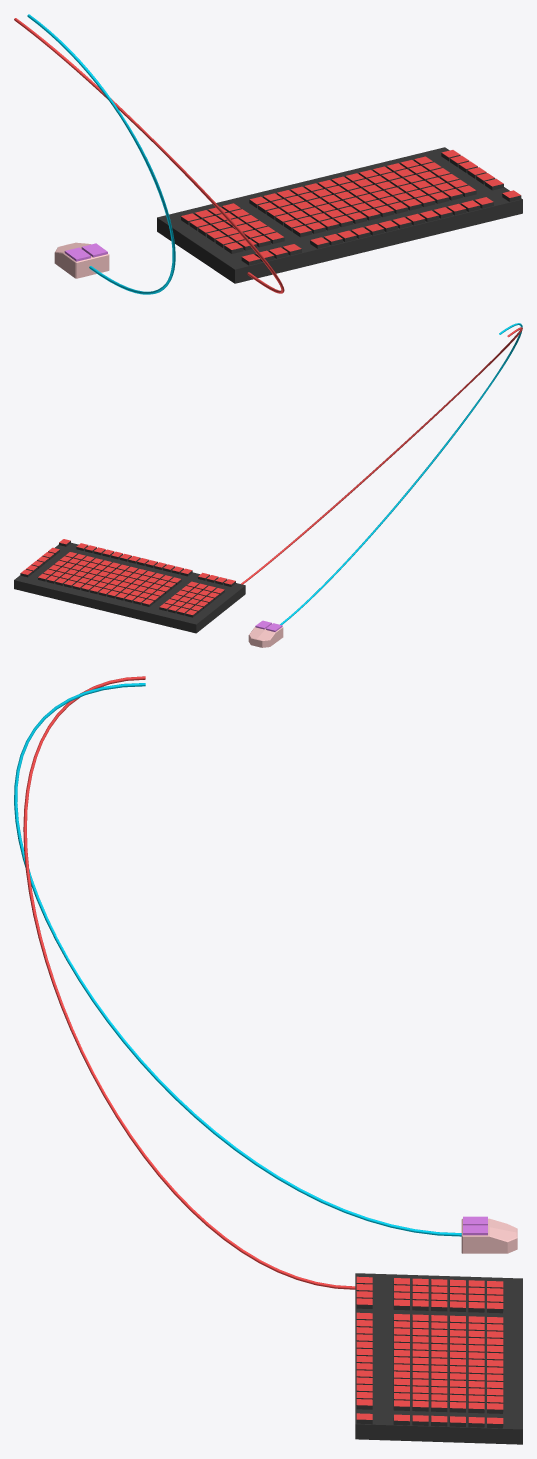
The model's file is Keyboard.fbx.
The picture shows the model from 3 angles, top to bottom: view 1: azimuth 30°, elevation 25°; view 2: azimuth 150°, elevation 25°; view 3: azimuth 270°, elevation 25°; orthographic projection. The views are drawn at different scales.
Visible parts, largest first — view 1: Keyboard_Mouse; view 2: Keyboard_Mouse; view 3: Keyboard_Mouse.
Part boxes in pixels (left/top/right/bottom): Keyboard_Mouse: left=14, top=14, right=522, bottom=294; Keyboard_Mouse: left=14, top=323, right=522, bottom=647; Keyboard_Mouse: left=14, top=676, right=522, bottom=1444.
Bounding box in the file's own units: 71.78 × 47.48 × 48.55.
